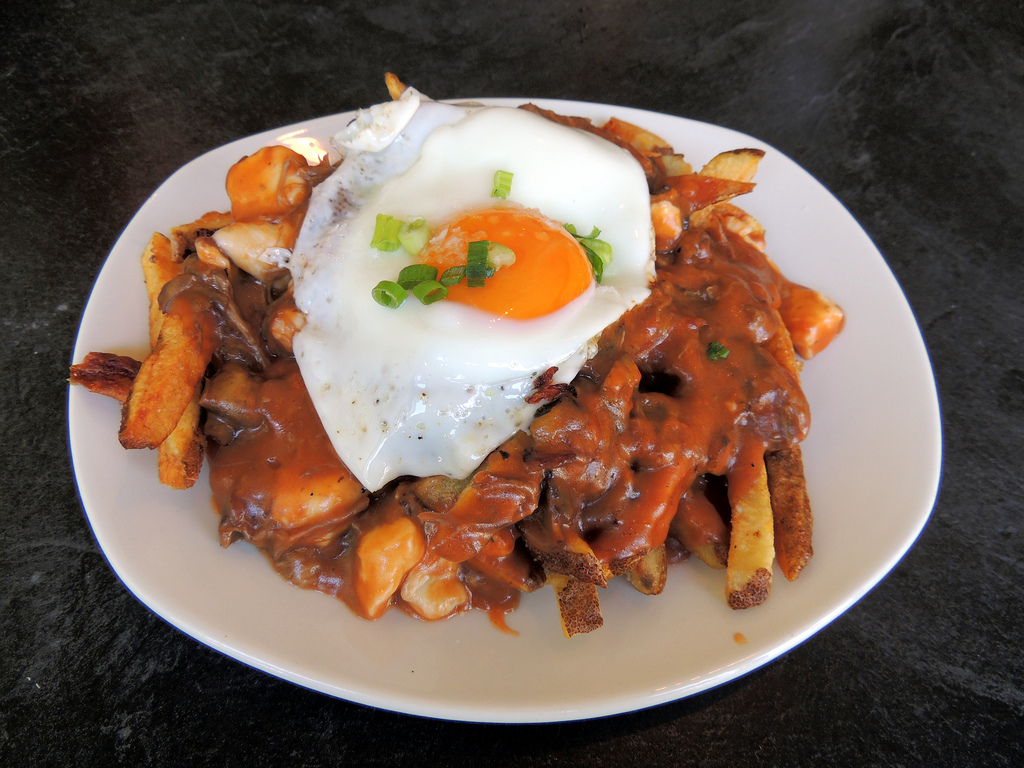fried egg: (312, 105, 644, 470)
